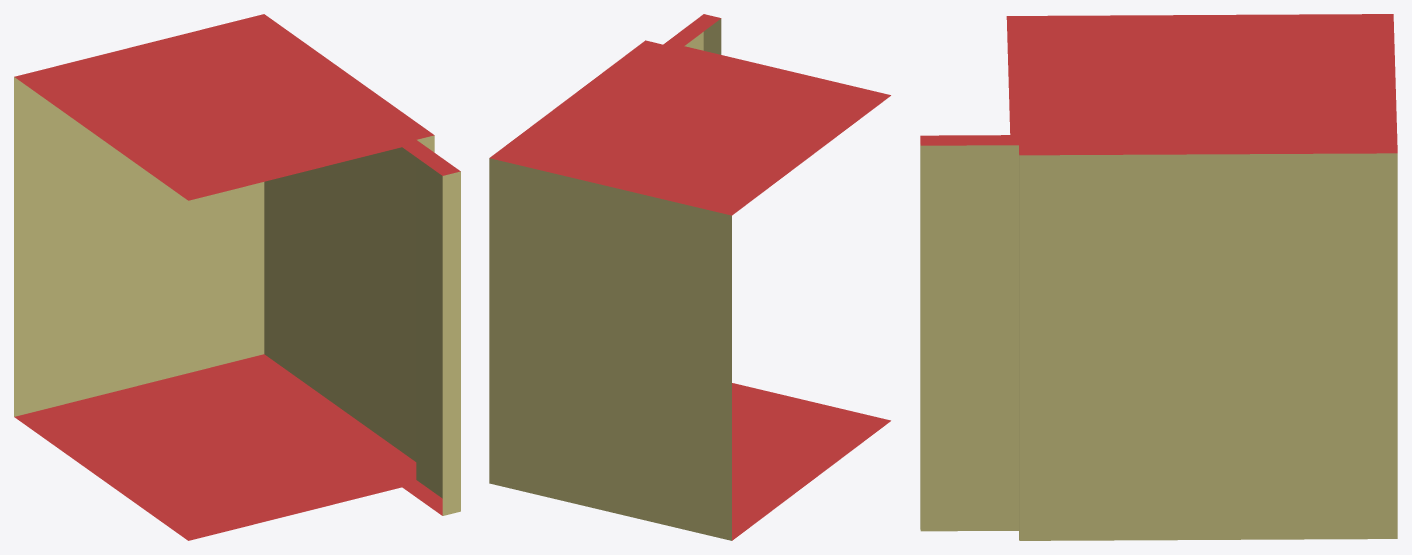
3 renders of one model, left to right at view 1: azimuth 30°, elevation 25°; view 2: azimuth 150°, elevation 25°; view 3: azimuth 270°, elevation 25°, orthographic. The views are drawn at different scales.
Bounding box in the file's own units: 6.97 × 9.95 × 8.86.
